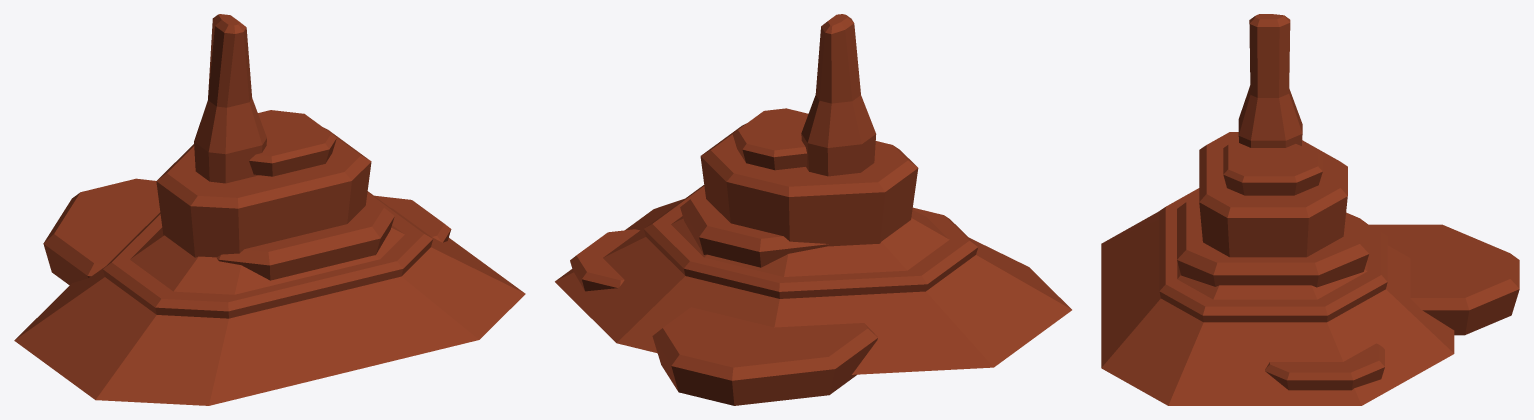
Rendered from Rock4_1.fbx.
The picture shows the model from 3 angles, left to right: view 1: azimuth 30°, elevation 25°; view 2: azimuth 150°, elevation 25°; view 3: azimuth 270°, elevation 25°; orthographic projection. The views are drawn at different scales.
Visible parts, largest first — view 1: Plane.001; view 2: Plane.001; view 3: Plane.001.
Boxes of the visible parts, bbox=[...] form: Plane.001: bbox=[14, 14, 525, 405]; Plane.001: bbox=[555, 14, 1071, 405]; Plane.001: bbox=[1101, 14, 1519, 405].
Size of the model in its own units: 4775 by 3170 by 4255.
